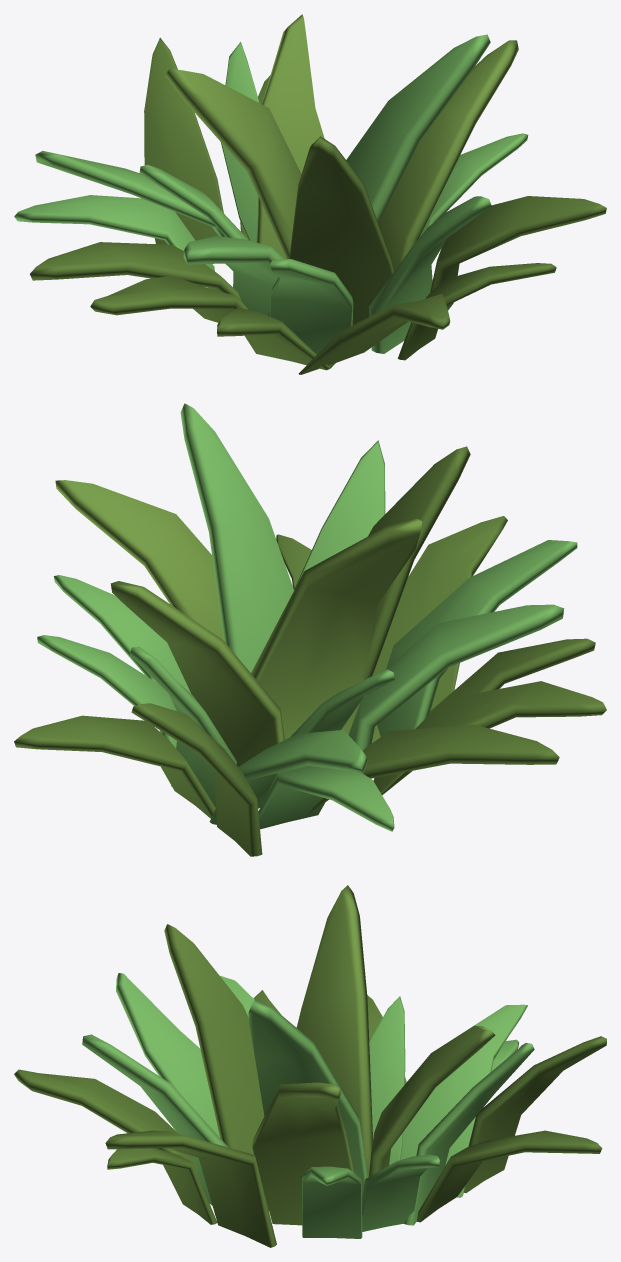
Rendered from Grass_cluster.fbx.
The picture shows the model from 3 angles, top to bottom: view 1: azimuth 30°, elevation 25°; view 2: azimuth 150°, elevation 25°; view 3: azimuth 270°, elevation 25°; orthographic projection. The views are drawn at different scales.
Visible parts, largest first — view 1: Grass_Cluster; view 2: Grass_Cluster; view 3: Grass_Cluster.
Part boxes in pixels (x1,y1,x2,y2): Grass_Cluster: [14, 14, 606, 374]; Grass_Cluster: [14, 403, 606, 856]; Grass_Cluster: [14, 885, 606, 1247].
Bounding box in the file's own units: 410 × 220 × 462.
1 material, 1 textured.
